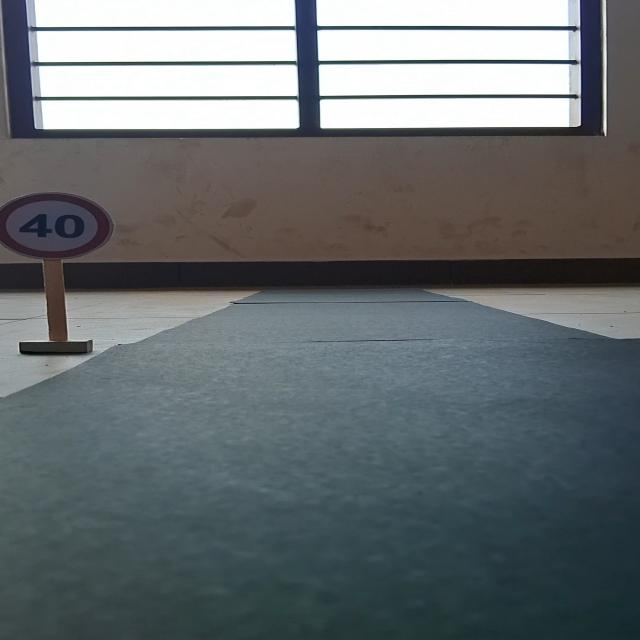Speed40: (2, 184, 119, 260)
